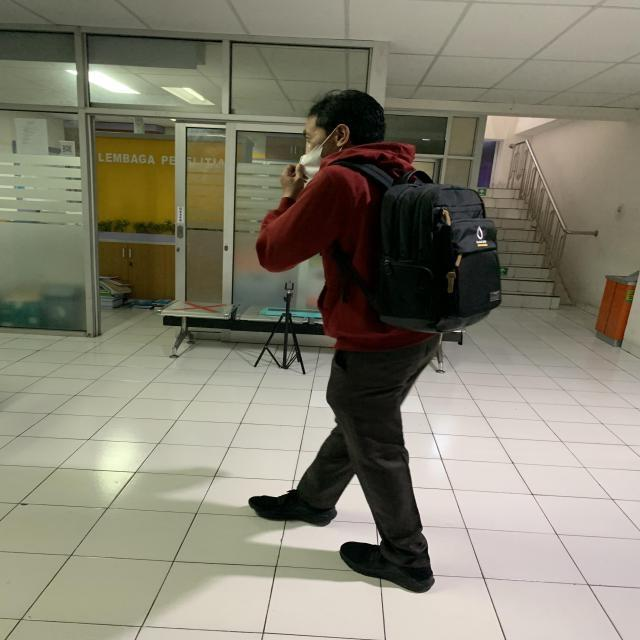hairnet: (290, 89, 388, 183)
